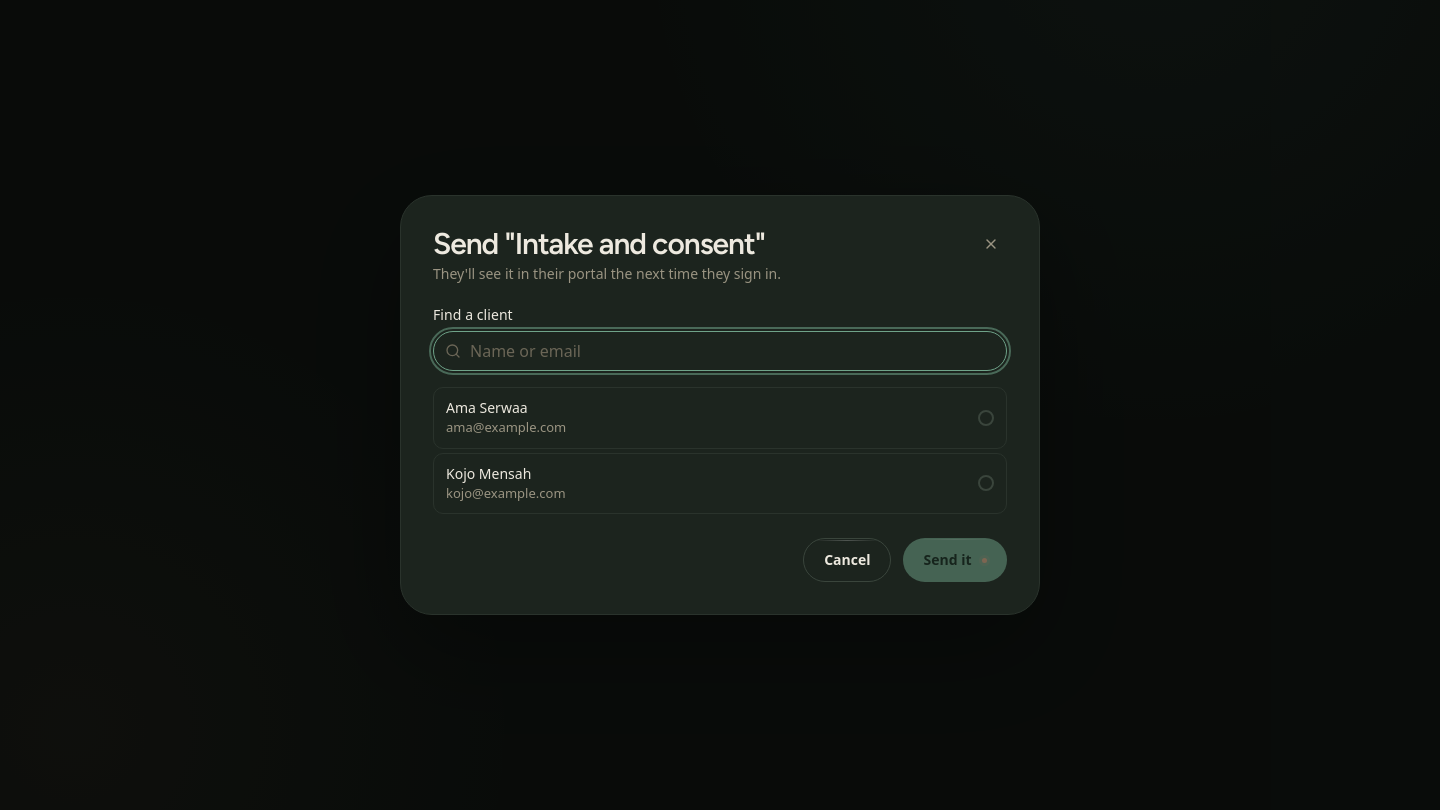
AssignFormModal › stays open and explains itself when sending fails
Step 1. Click the radio button labelled "Ama Serwaa ama@example.com" → (487, 408), box [433,387,1007,449]
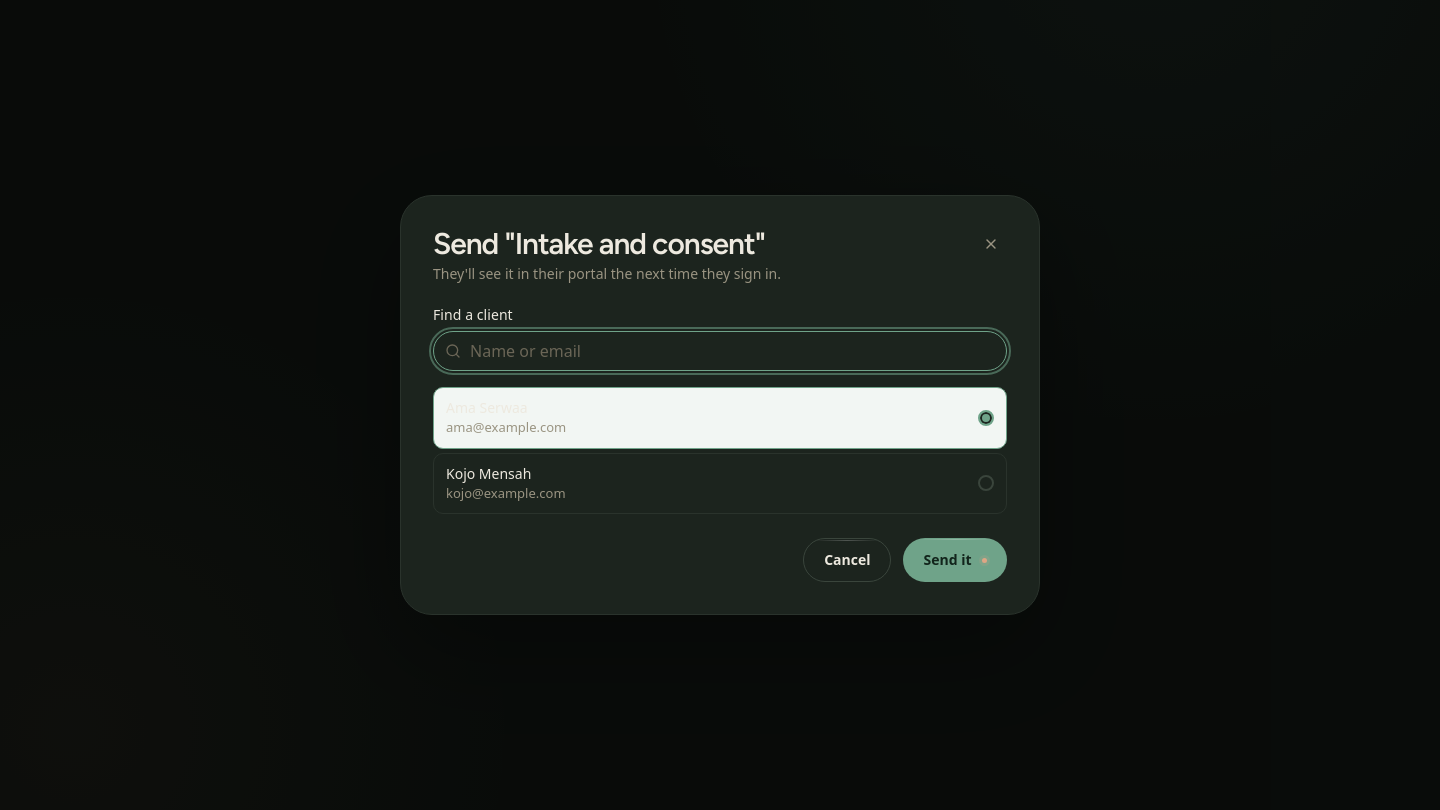
Step 2. Click the button "Send it" → (955, 560), box [904,538,1007,582]
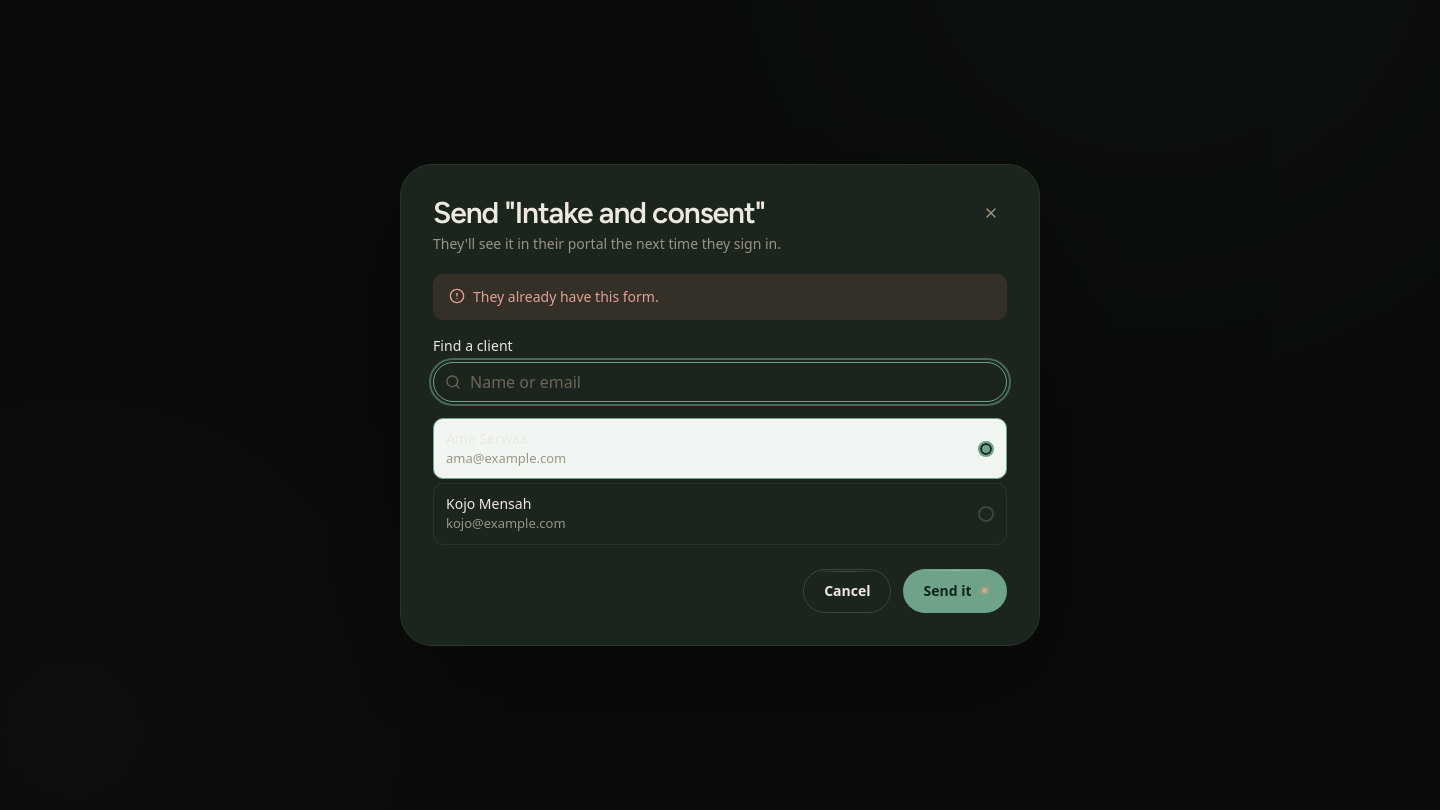
Check: the button "Send it" is enabled, box [904,569,1007,613]
Check: the message shows "already have this form", box [473,287,659,306]
